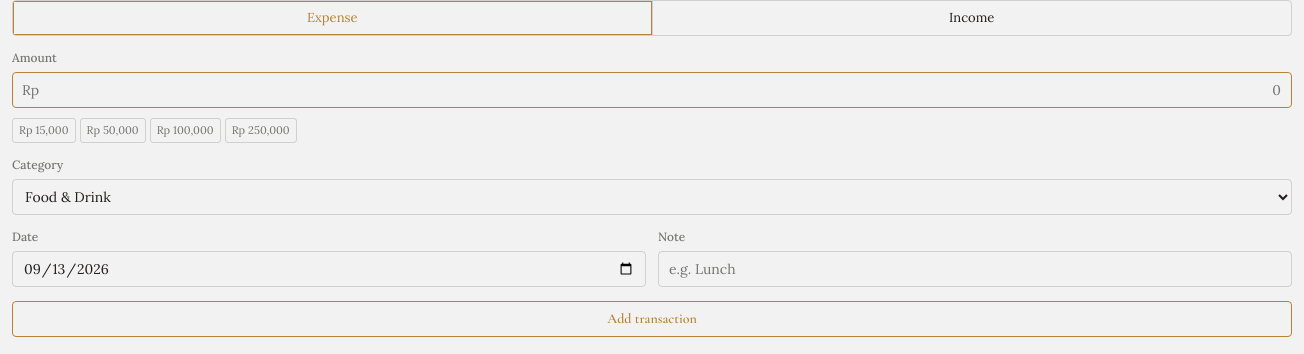
Scenario: TransactionForm quick amounts › fills the amount field when one is tapped
Click the button "Rp 50,000": (113, 131) [80,118,146,143]
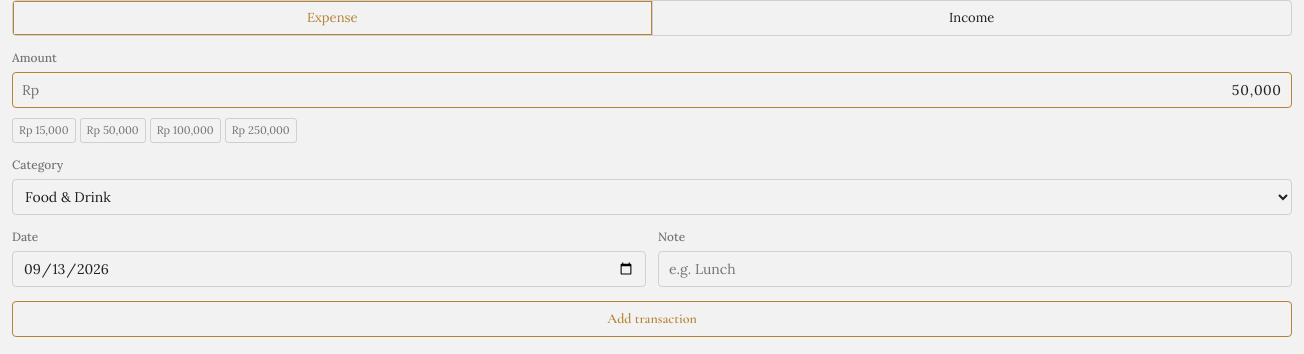
Expected: the element named "amount" holds "50000", [12,72,1292,108]
Now the field labelled "Amount" holds "50,000", box [12,72,1292,108]
